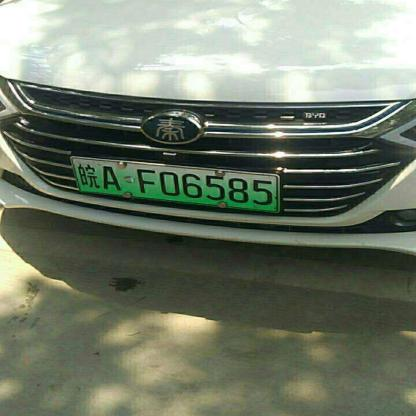lp: (71, 158, 280, 212)
